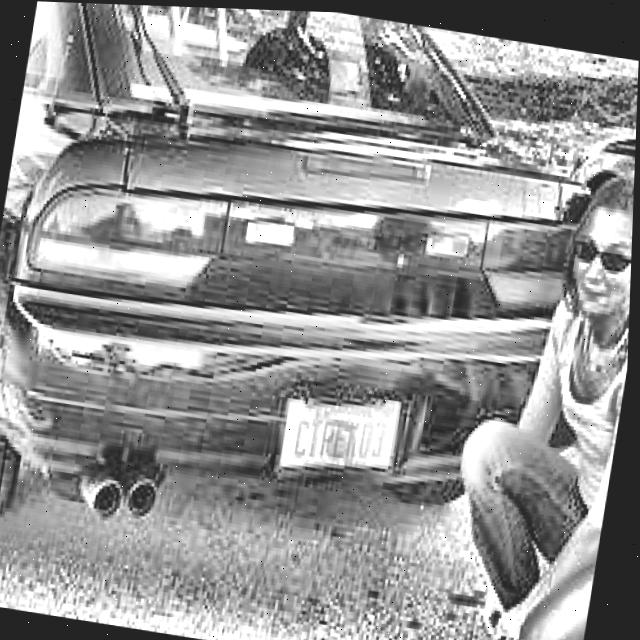light_vehicle: (0, 0, 608, 595)
